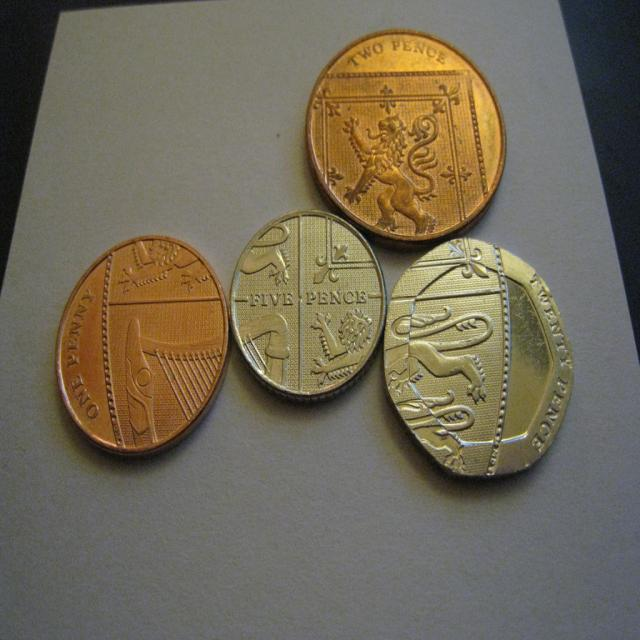Coin: (382, 233, 575, 478), (305, 29, 507, 247), (54, 234, 232, 453), (224, 205, 390, 402)
